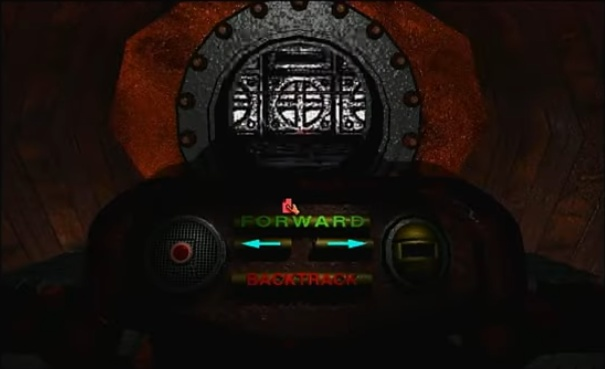Keep: (278, 194, 303, 217)
